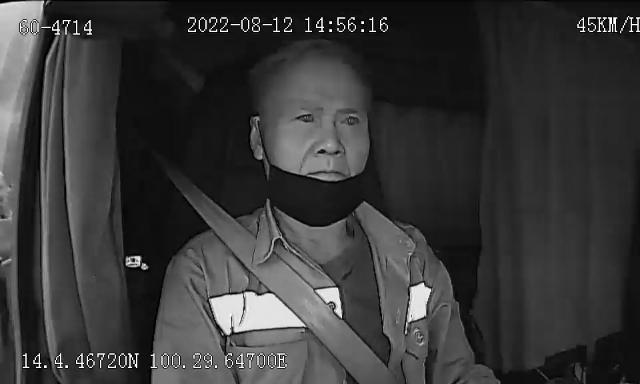SafeDriving: (331, 106, 366, 132), (287, 106, 323, 128)
Seatbelt: (174, 179, 396, 384)
